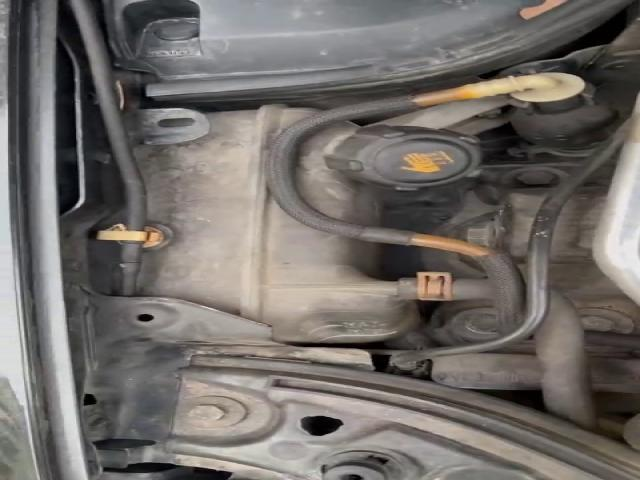antifreeze_tank: (137, 105, 420, 343), (300, 122, 479, 225)
